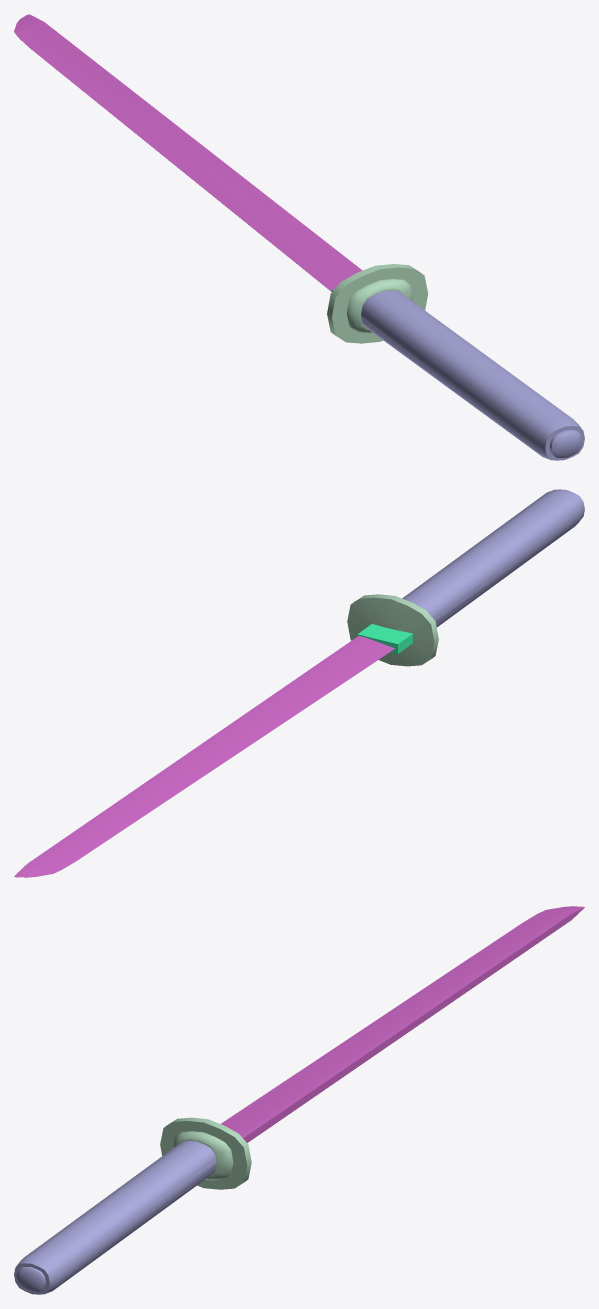
The picture shows the model from 3 angles, top to bottom: view 1: azimuth 30°, elevation 25°; view 2: azimuth 150°, elevation 25°; view 3: azimuth 330°, elevation 25°; orthographic projection. The views are drawn at different scales.
Visible parts, largest first — view 1: textures_0.001, textures_0, textures_0.003; view 2: textures_0.001, textures_0, textures_0.003, textures_0.006; view 3: textures_0.001, textures_0, textures_0.003.
Part boxes in pixels (x1,y1,x2,y2): textures_0.001: [14, 14, 362, 291]; textures_0: [361, 290, 584, 460]; textures_0.003: [327, 264, 428, 343]; textures_0.001: [14, 636, 394, 877]; textures_0: [402, 489, 584, 627]; textures_0.003: [347, 594, 438, 666]; textures_0.006: [357, 624, 412, 653]; textures_0.001: [221, 906, 584, 1142]; textures_0: [14, 1141, 216, 1294]; textures_0.003: [160, 1117, 251, 1189].
Size of the model in its own units: 0.0965 by 0.0695 by 1.
